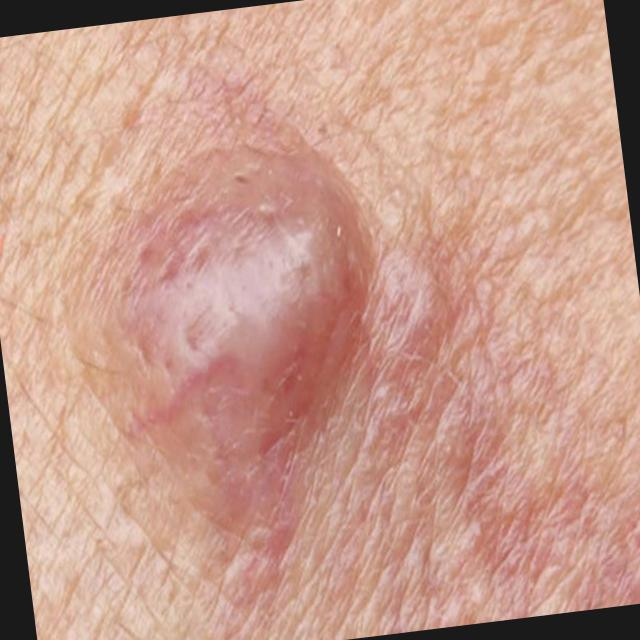nodule: (99, 148, 388, 480)
